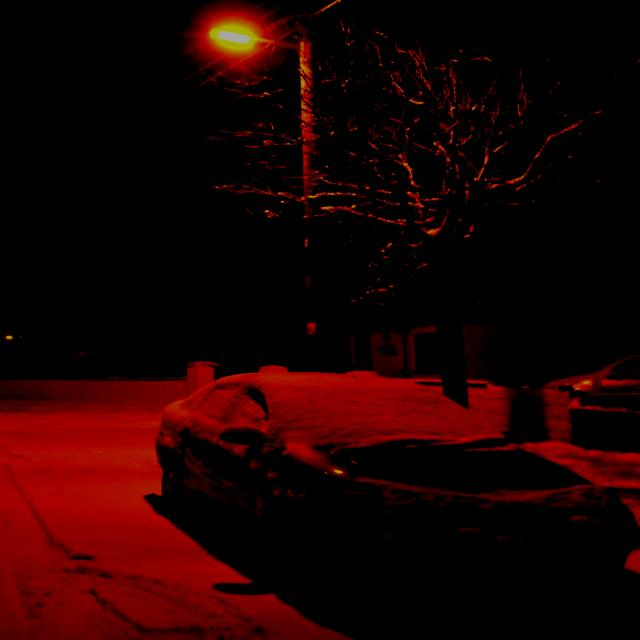Car: (150, 368, 640, 608)
